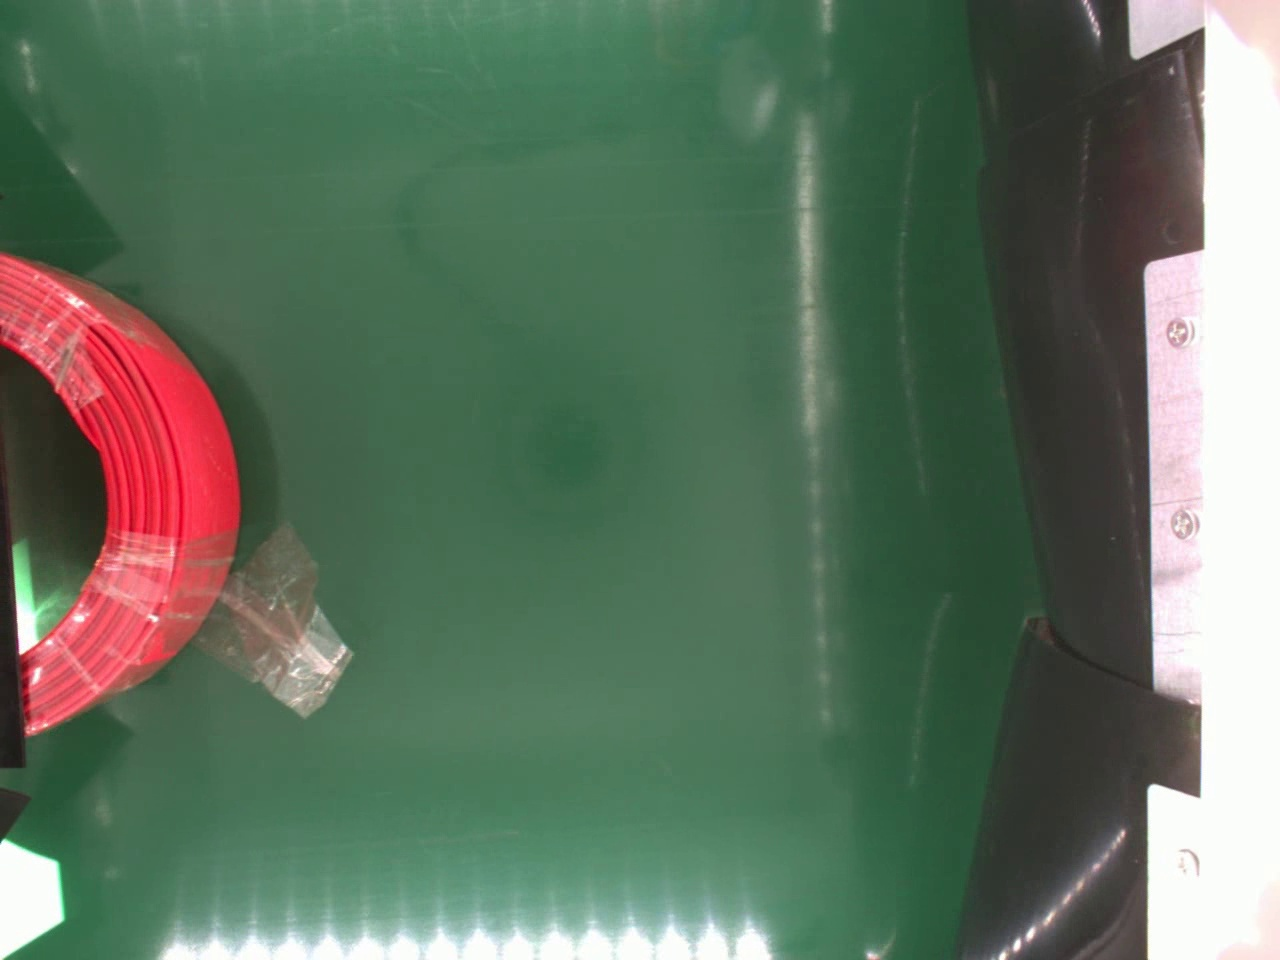red: (0, 253, 243, 734)
